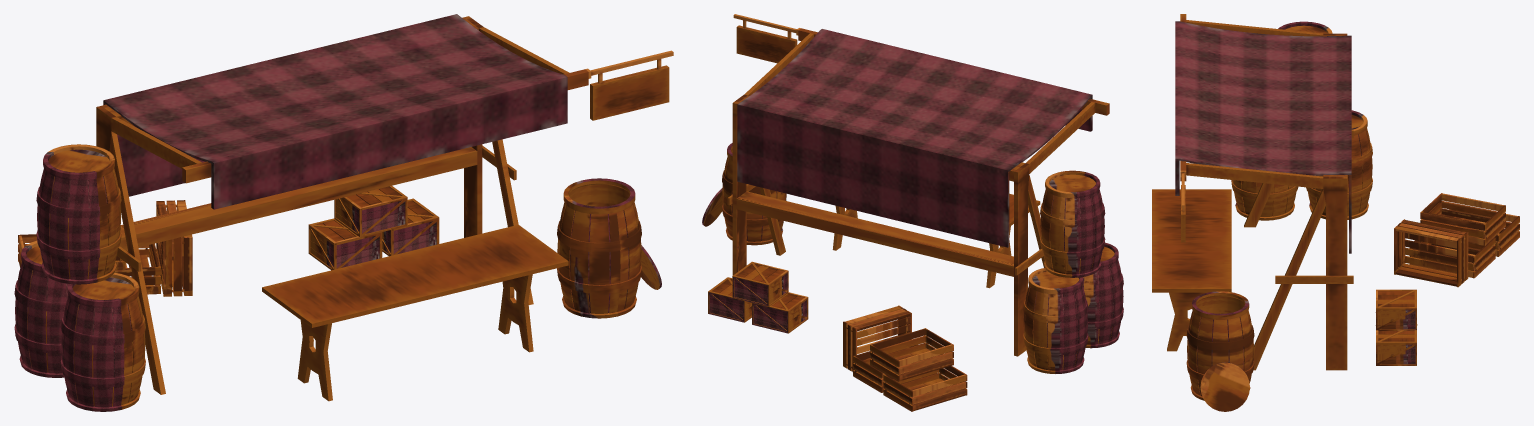
Rendered from Concept_2.fbx.
3 views of the same model, side by side, from view 1: azimuth 30°, elevation 25°; view 2: azimuth 150°, elevation 25°; view 3: azimuth 270°, elevation 25° (orthographic). The views are drawn at different scales.
Parts seen in each view (by area): view 1: Cube.087, Cube.086, Circle.101, Circle.102, Circle.100, Circle.099, Cube.163, Cube.164, Cube.172, Cube.170, Cube.168, Cube.165 (+2 smaller); view 2: Cube.087, Circle.101, Circle.099, Circle.100, Cube.167, Cube.166, Cube.164, Cube.163, Circle.102, Cube.170, Cube.172, Cube.168 (+5 smaller); view 3: Cube.087, Cube.086, Circle.102, Cube.164, Cube.167, Circle.099, Circle.103, Circle.100, Cube.165, Cube.172, Cube.168, Cube.173 (+4 smaller).
Boxes of the visible parts, left/top/right/bottom form: Cube.087: left=96, top=14, right=588, bottom=394; Cube.086: left=262, top=225, right=568, bottom=401; Circle.101: left=36, top=144, right=121, bottom=284; Circle.102: left=557, top=178, right=641, bottom=318; Circle.100: left=60, top=272, right=145, bottom=411; Circle.099: left=14, top=240, right=68, bottom=377; Cube.163: left=585, top=50, right=673, bottom=120; Cube.164: left=156, top=200, right=192, bottom=296; Cube.172: left=334, top=197, right=407, bottom=237; Cube.170: left=308, top=225, right=382, bottom=270; Cube.168: left=382, top=218, right=439, bottom=256; Cube.165: left=114, top=243, right=160, bottom=294; Cube.087: left=727, top=28, right=1109, bottom=356; Circle.101: left=1040, top=170, right=1105, bottom=277; Circle.099: left=1023, top=268, right=1088, bottom=373; Circle.100: left=1082, top=242, right=1123, bottom=348; Cube.167: left=870, top=328, right=953, bottom=381; Cube.166: left=883, top=365, right=967, bottom=411; Cube.164: left=843, top=305, right=911, bottom=371; Cube.163: left=733, top=14, right=800, bottom=63; Circle.102: left=722, top=143, right=786, bottom=245; Cube.170: left=752, top=298, right=808, bottom=333; Cube.172: left=732, top=271, right=788, bottom=306; Cube.168: left=708, top=292, right=751, bottom=322; Cube.087: left=1175, top=14, right=1353, bottom=370; Cube.086: left=1152, top=189, right=1231, bottom=351; Circle.102: left=1186, top=291, right=1254, bottom=400; Cube.164: left=1394, top=219, right=1468, bottom=287; Cube.167: left=1420, top=193, right=1505, bottom=245; Circle.099: left=1306, top=110, right=1372, bottom=219; Circle.103: left=1200, top=362, right=1249, bottom=411; Circle.100: left=1231, top=180, right=1298, bottom=220; Cube.165: left=1409, top=237, right=1495, bottom=278; Cube.172: left=1375, top=308, right=1416, bottom=330; Cube.168: left=1376, top=343, right=1416, bottom=365; Cube.173: left=1376, top=289, right=1416, bottom=308.
Bounding box in the file's own units: 271 × 121 × 193.
